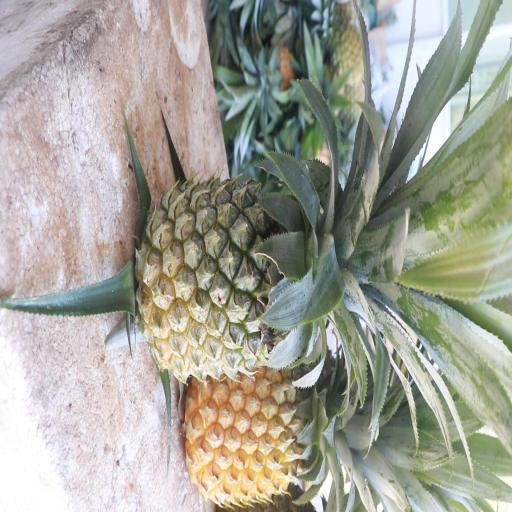------------------------------: (141, 180, 334, 371)
Pineapple - v8 v1: (184, 362, 333, 500)
